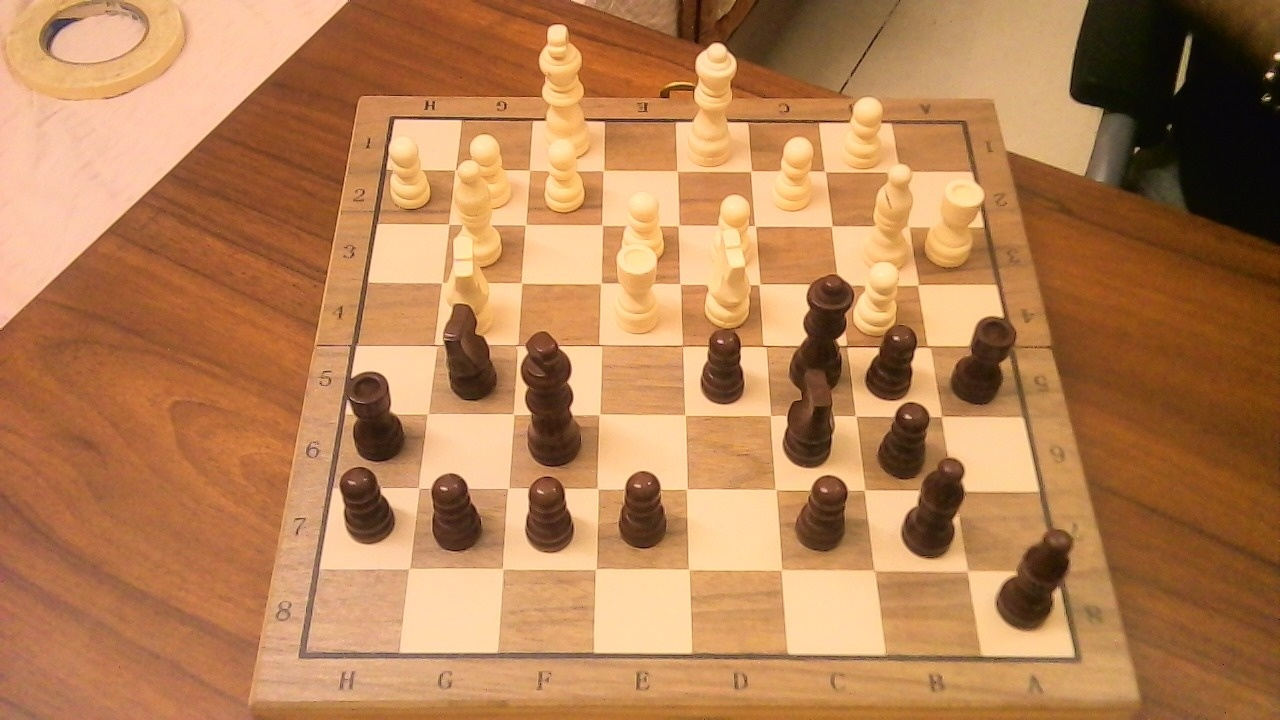B: (448, 148, 513, 271), (862, 153, 922, 274)
K: (534, 13, 597, 162)
N: (692, 238, 759, 328), (457, 230, 498, 316)
P: (610, 181, 671, 279), (764, 127, 823, 217), (459, 126, 518, 213), (832, 87, 891, 170), (535, 130, 591, 217), (382, 129, 437, 211), (856, 252, 907, 340), (705, 187, 758, 267)
Q: (682, 30, 746, 169)
R: (921, 169, 990, 273), (606, 232, 669, 340)
b: (989, 516, 1085, 634), (922, 445, 979, 564)
k: (517, 322, 594, 469)
n: (434, 288, 509, 404), (782, 388, 850, 470)
p: (329, 456, 406, 548), (421, 461, 494, 553), (789, 463, 860, 554), (860, 313, 928, 402), (880, 400, 942, 480), (618, 470, 668, 550), (522, 477, 576, 550), (700, 330, 745, 405)
q: (780, 260, 863, 394)
r: (945, 302, 1025, 408), (340, 358, 415, 464)
